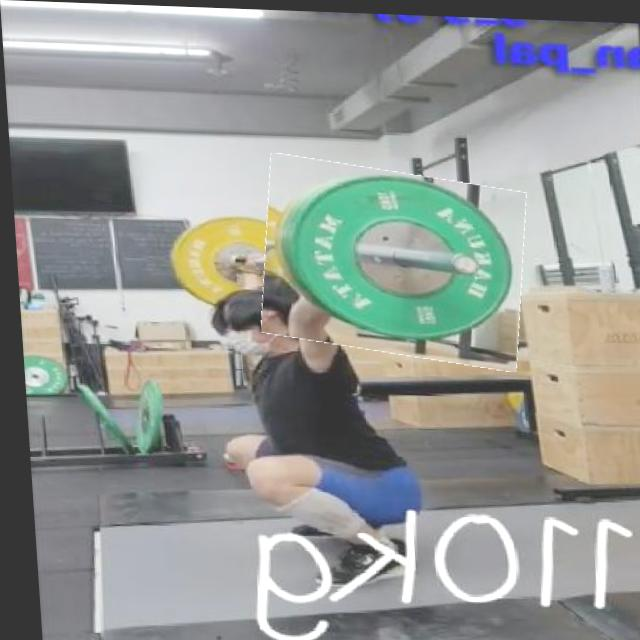barbell: (254, 159, 529, 363)
